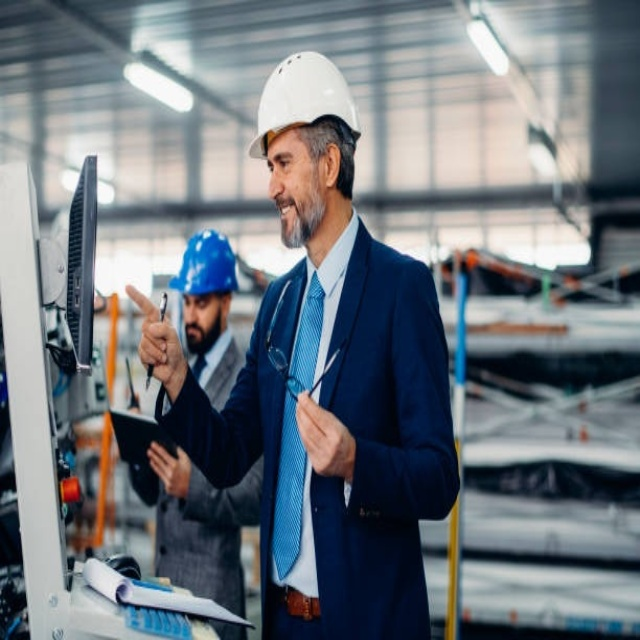Sin_gafas: (267, 144, 307, 182)
Sin_guantes: (130, 286, 181, 389), (292, 395, 350, 478), (145, 439, 191, 501)
Sin_mascara: (276, 195, 302, 242), (184, 317, 207, 348)
